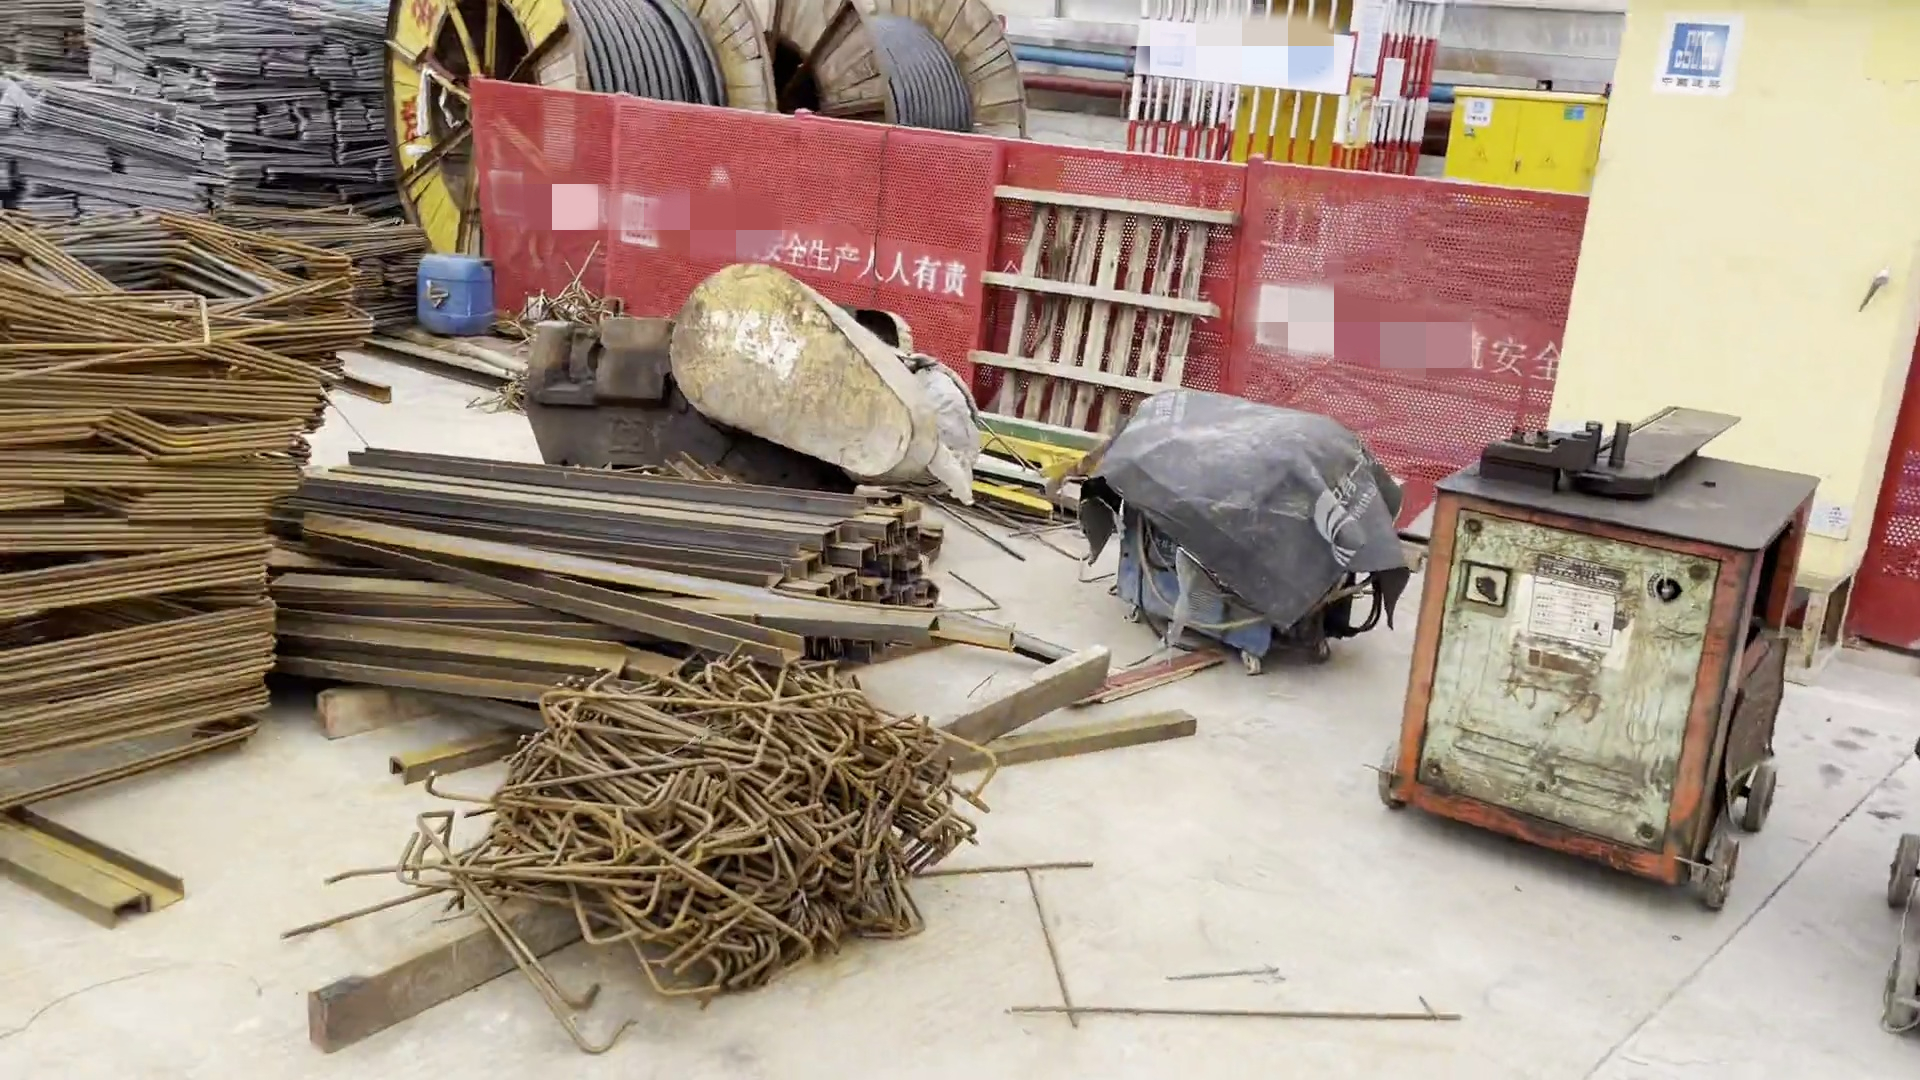cutter: (1340, 371, 1858, 942)
ebox: (1548, 5, 1920, 588), (1236, 5, 1371, 185), (1435, 73, 1606, 208)
fence: (1004, 120, 1592, 487), (460, 73, 1026, 401)
